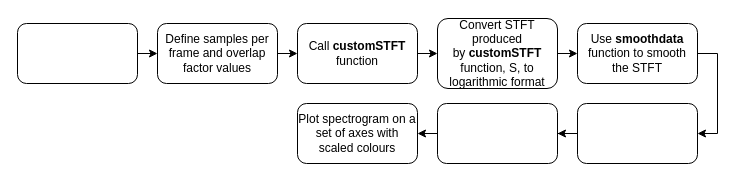
The diagram is 743 pixels wide and 181 high, and some of its shapes have lost their labels. The shapes that lost their labels are listed below. From the top down, each one's centre as x and y in pixels, then its label:
At (x=77, y=53): "Call processSignal function".
At (x=497, y=133): "Plot speeds on a set of axes".
At (x=637, y=133): "Calculate instantaneous, average, and maximum speeds".
